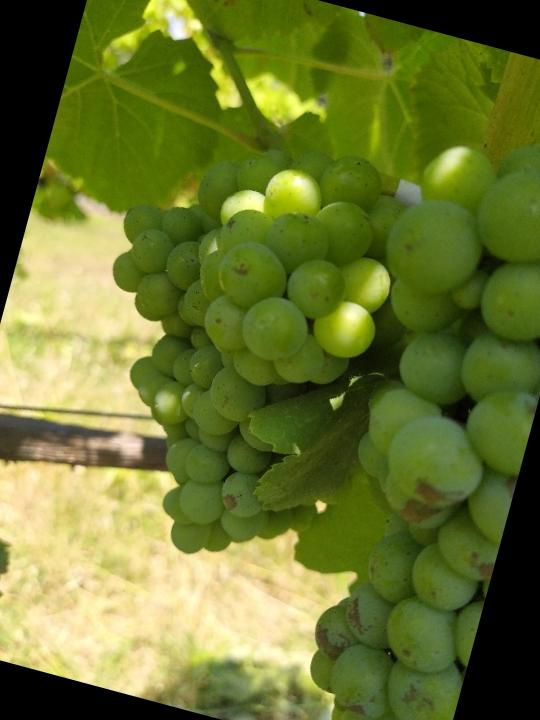grape: (40, 102, 408, 588)
